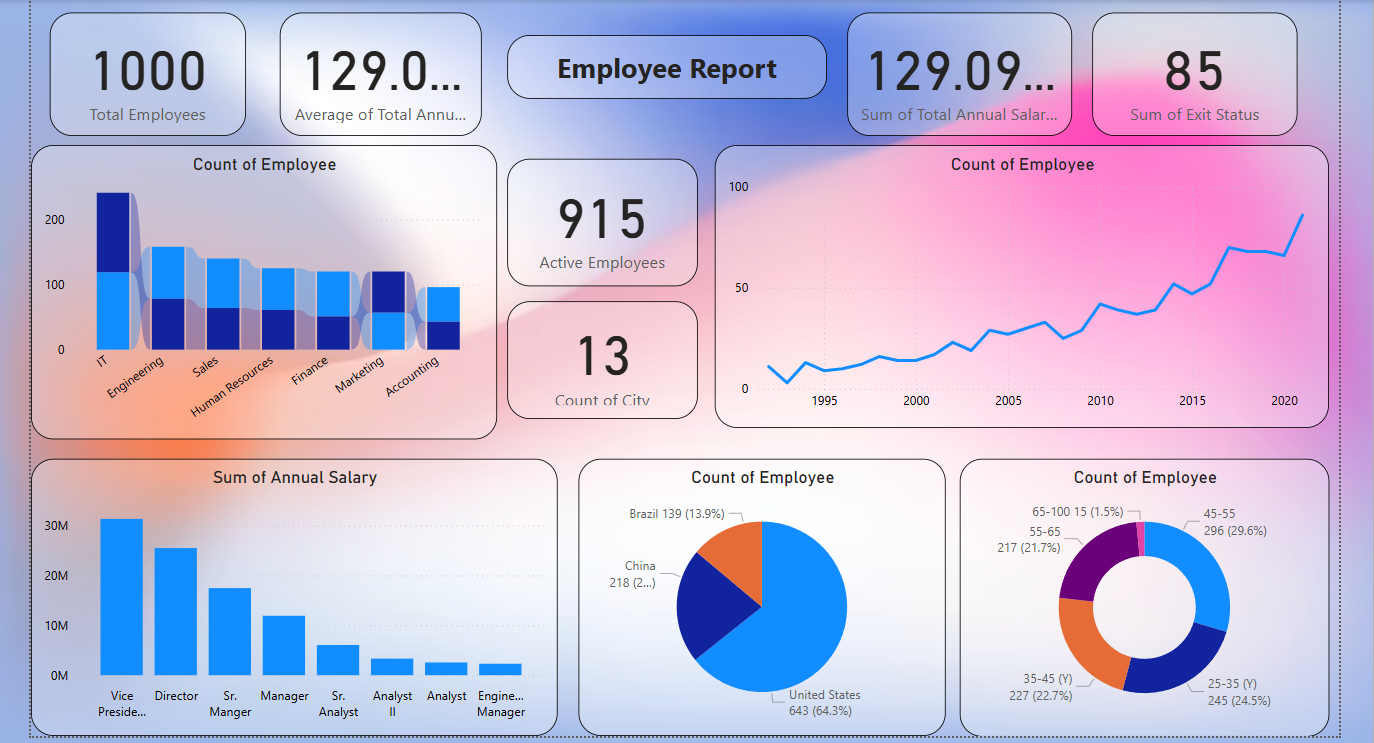

The page's visual inventory and layout, read from the dashboard file:
{"tool":"powerbi","page":{"name":"Page 2","canvas":[1280,720],"ordinal":2},"visuals":[{"type":"ribbonChart","title":"Count of Employee ","fields":{"Category":["Sheet1.Department"],"Y":["CountNonNull(Sheet1.Employee Id (PK))"],"Series":["Sheet1.Gender"]},"box":[0,141.9,455.8,288.4],"z":0},{"type":"columnChart","title":"Sum of Annual Salary ","fields":{"Category":["Sheet1.Job Title"],"Y":["Sum(Sheet1.Total Annual Salary With Bonus)"]},"box":[0,448.8,515.1,270.9],"z":1},{"type":"pieChart","title":"Count of Employee","fields":{"Category":["Sheet1.Country"],"Y":["CountNonNull(Sheet1.Employee Id (PK))"]},"box":[536,448.8,359.3,270.9],"z":2},{"type":"donutChart","title":"Count of Employee ","fields":{"Category":["Sheet1.Age Group "],"Y":["CountNonNull(Sheet1.Employee Id (PK))"]},"box":[908.1,448.8,361.6,272.1],"z":3},{"type":"lineChart","title":"Count of Employee ","fields":{"Category":["Sheet1.Hire Date.Variation.Date Hierarchy.Year","Sheet1.Hire Date.Variation.Date Hierarchy.Quarter","Sheet1.Hire Date.Variation.Date Hierarchy.Month","Sheet1.Hire Date.Variation.Date Hierarchy.Day"],"Y":["CountNonNull(Sheet1.Employee Id (PK))"]},"box":[668.6,141.9,601.2,276.7],"z":4},{"type":"card","title":"Total Employees","fields":{"Values":["CountNonNull(Sheet1.Employee Id (PK))"]},"box":[18.6,11.6,191.9,120.9],"z":5},{"type":"card","title":"Left Employees","fields":{"Values":["Sum(Sheet1.Exit Status)"]},"box":[1038.4,11.6,201.2,120.9],"z":6},{"type":"card","title":"Average Salary","fields":{"Values":["Avg(Sheet1.Total Annual Salary With Bonus)"]},"box":[243,11.6,197.7,120.9],"z":7},{"type":"card","title":"Sum Of Salary","fields":{"Values":["Sum(Sheet1.Total Annual Salary With Bonus)"]},"box":[798.8,11.6,219.8,120.9],"z":8},{"type":"card","title":"Active Employees","fields":{"Values":["Sheet1.Active Employees"]},"box":[466.3,155.8,186,124.4],"z":9},{"type":"card","fields":{"Values":["Count(Sheet1.City)"]},"box":[466.3,294.2,186,115.1],"z":10},{"type":"textbox","box":[466.3,33.7,312.8,62.8],"z":11}]}

Visuals, with their boxes in screenshot pixels (x1, y1, x2, y2):
"Count of Employee " ribbonChart: locate(29, 145, 493, 439)
"Sum of Annual Salary " columnChart: locate(29, 458, 554, 734)
"Count of Employee" pieChart: locate(575, 458, 941, 734)
"Count of Employee " donutChart: locate(954, 458, 1323, 735)
"Count of Employee " lineChart: locate(710, 145, 1323, 427)
"Total Employees" card: locate(48, 12, 243, 135)
"Left Employees" card: locate(1087, 12, 1292, 135)
"Average Salary" card: locate(276, 12, 478, 135)
"Sum Of Salary" card: locate(843, 12, 1067, 135)
"Active Employees" card: locate(504, 159, 694, 286)
card - Count(Sheet1.City): locate(504, 300, 694, 417)
textbox: locate(504, 34, 823, 98)
